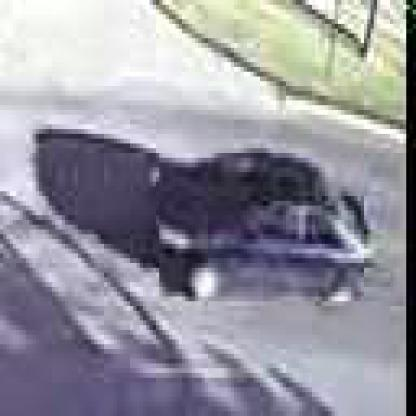car: (160, 149, 368, 307)
